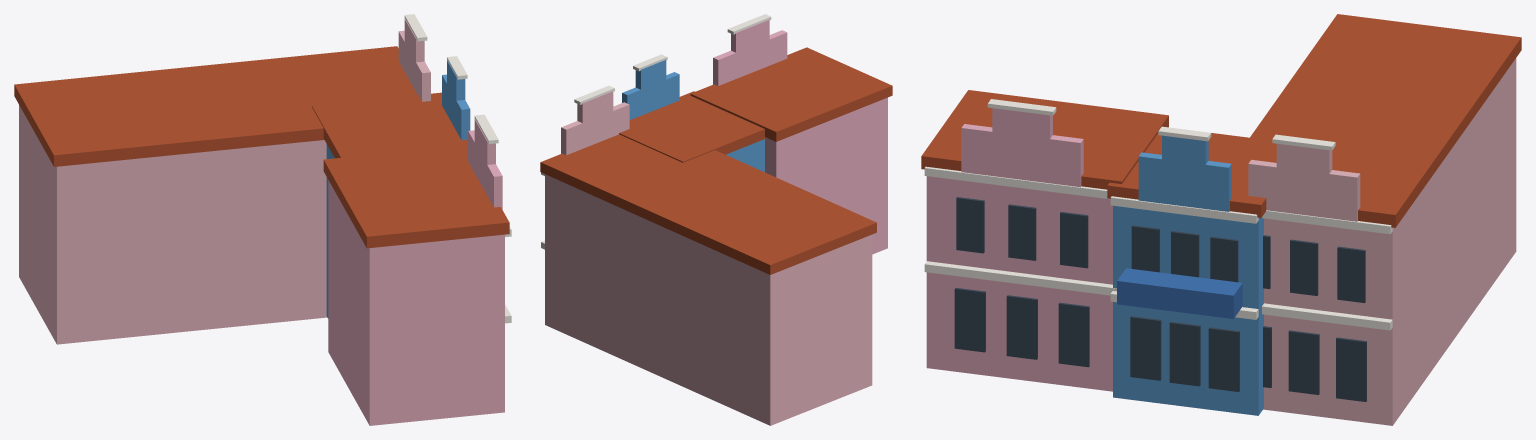
The model's file is ora_penharow.glb.
3 views of the same model, side by side, from view 1: azimuth 30°, elevation 25°; view 2: azimuth 150°, elevation 25°; view 3: azimuth 270°, elevation 25° (orthographic). The views are drawn at different scales.
Parts seen in each view (by area): view 1: ora_penharow_lod0; view 2: ora_penharow_lod0; view 3: ora_penharow_lod0.
Part boxes in pixels (box(x1,y1,x2,y2)): ora_penharow_lod0: box(14, 14, 511, 425); ora_penharow_lod0: box(540, 14, 892, 425); ora_penharow_lod0: box(921, 14, 1521, 425).
Size of what is drawn, in the model's own units: 16.74 by 10.78 by 20.92.
